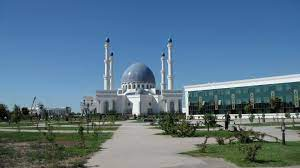Mosque: (90, 33, 189, 120)
